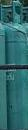cylinder: (0, 1, 28, 130)
